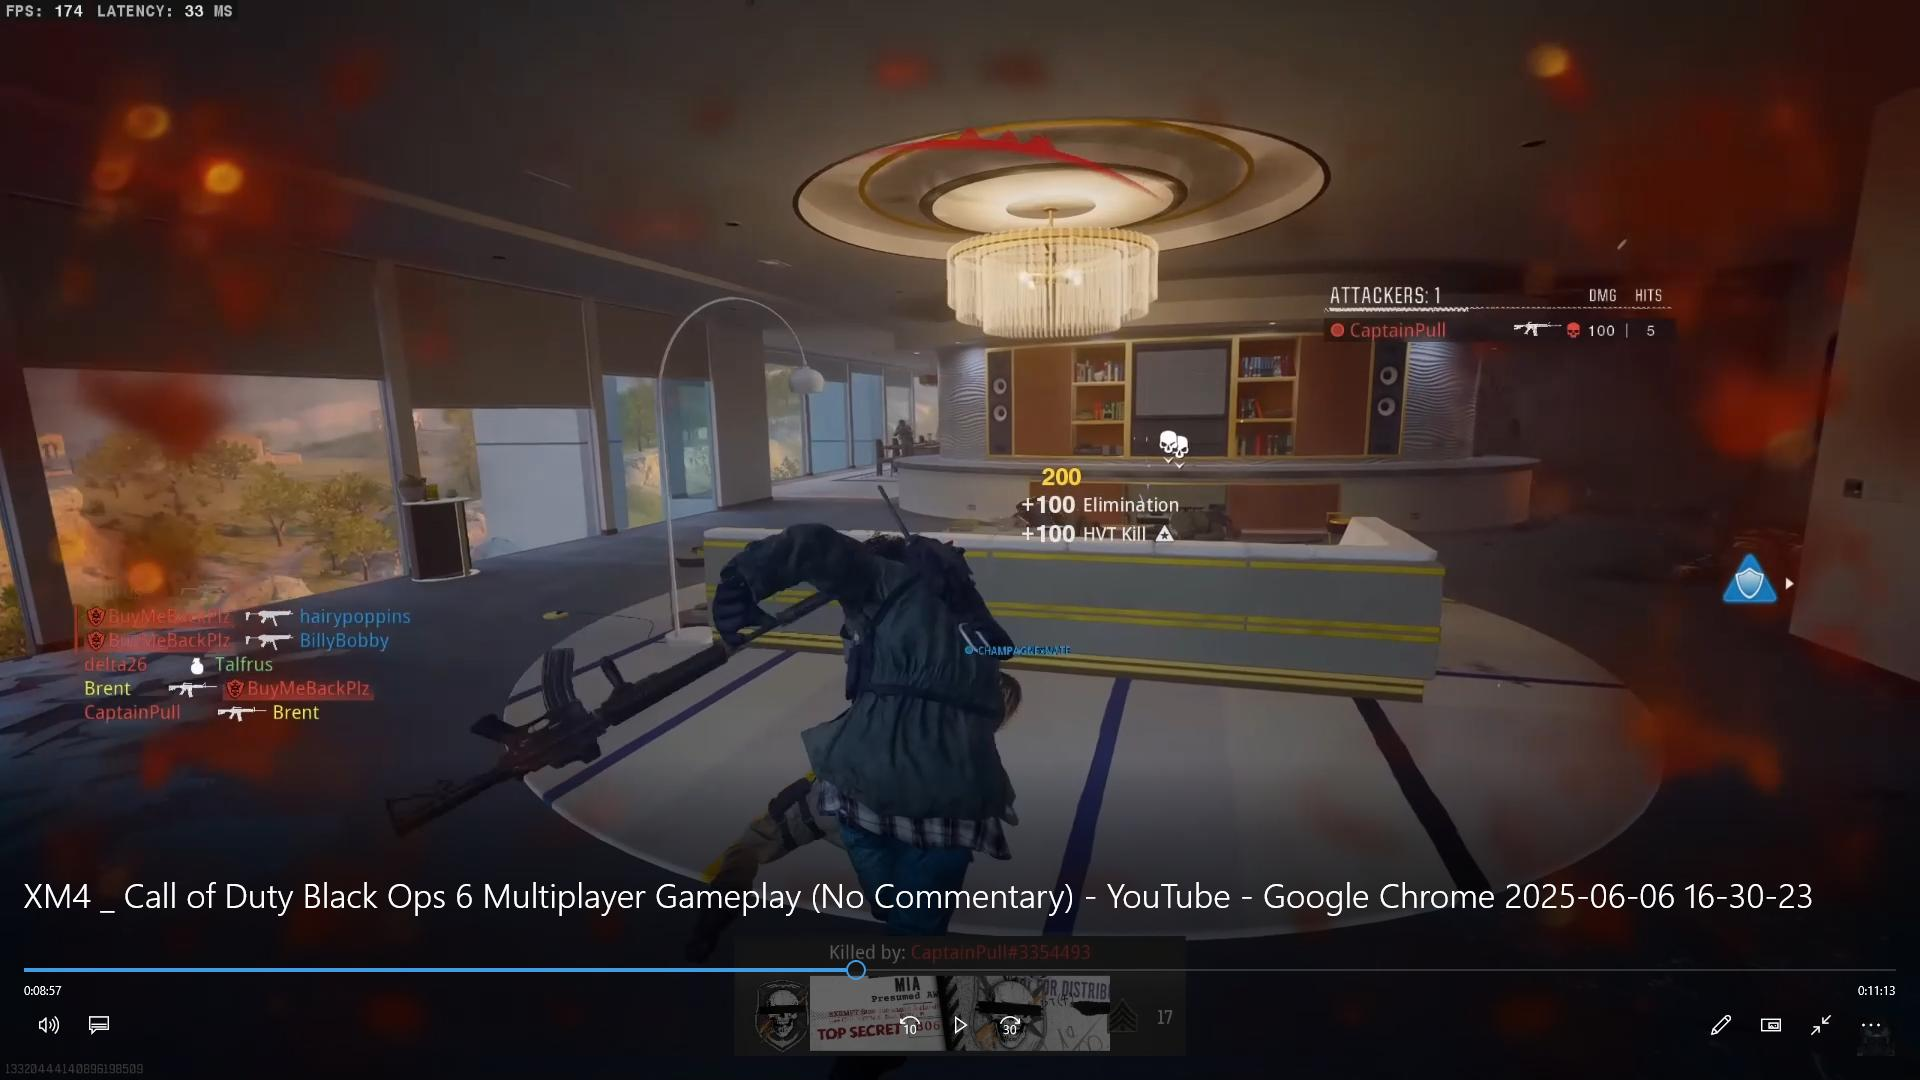Enemy: (886, 413, 918, 454)
